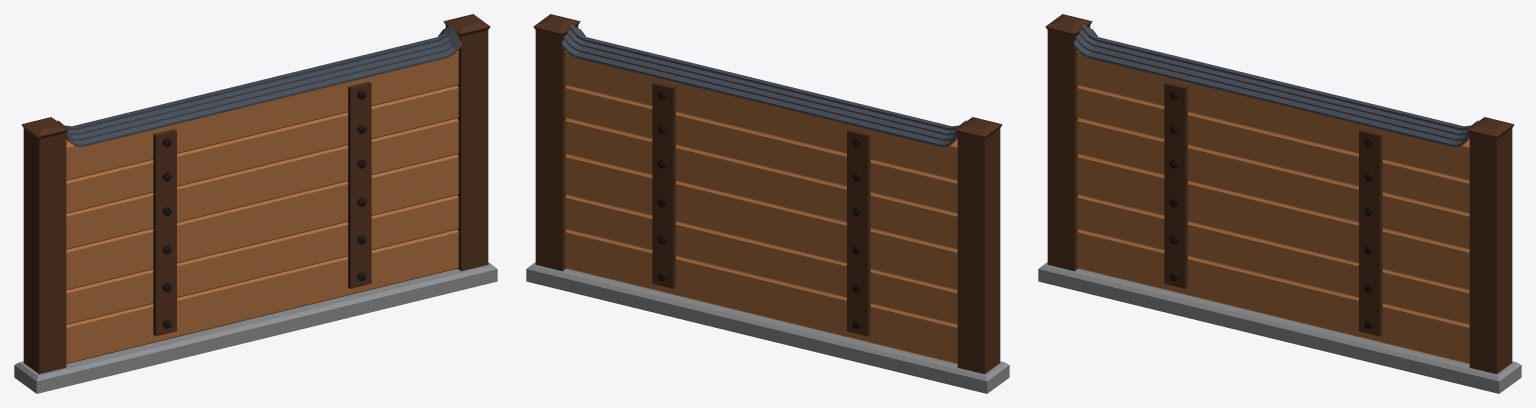
Rendered from wooden-wall.glb.
3 renders of one model, left to right at view 1: azimuth 30°, elevation 25°; view 2: azimuth 150°, elevation 25°; view 3: azimuth 330°, elevation 25°, orthographic.
Parts seen in each view (by area): view 1: Planks, Posts, Base, Roof, Nails; view 2: Planks, Posts, Base, Roof, Nails; view 3: Planks, Posts, Base, Roof, Nails.
Boxes of the visible parts, x1,y1,x2,y2 form: Planks: (66, 51, 458, 363); Posts: (21, 14, 490, 374); Base: (14, 262, 497, 393); Roof: (57, 24, 462, 146); Nails: (162, 90, 366, 328); Planks: (565, 51, 957, 363); Posts: (533, 14, 1002, 374); Base: (526, 262, 1009, 393); Roof: (561, 24, 966, 146); Nails: (657, 90, 861, 328); Planks: (1077, 51, 1469, 363); Posts: (1045, 14, 1514, 374); Base: (1038, 262, 1521, 393); Roof: (1073, 24, 1478, 146); Nails: (1169, 90, 1373, 328).
Size of the model in its own units: 30.8 by 16.38 by 2.6.
